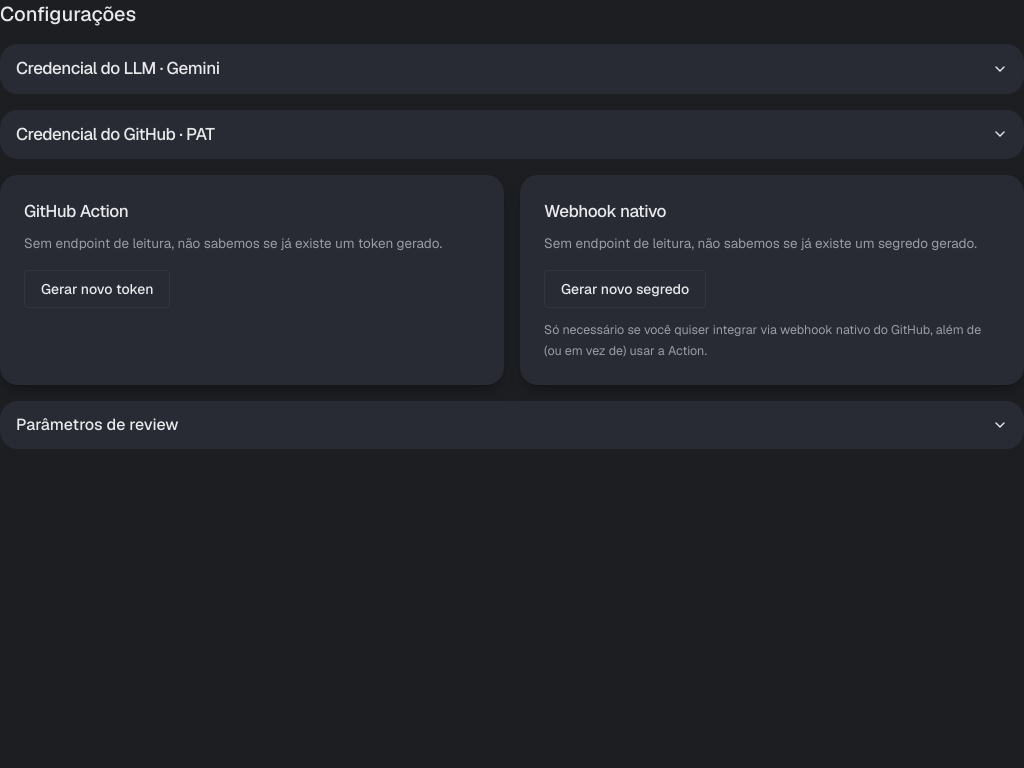
Test: SettingsPage › generating an Action token opens the SecretRevealModal with the value, gated by the ack checkbox
Click the button "Gerar novo token" at (97, 289), box [24,270,170,308]
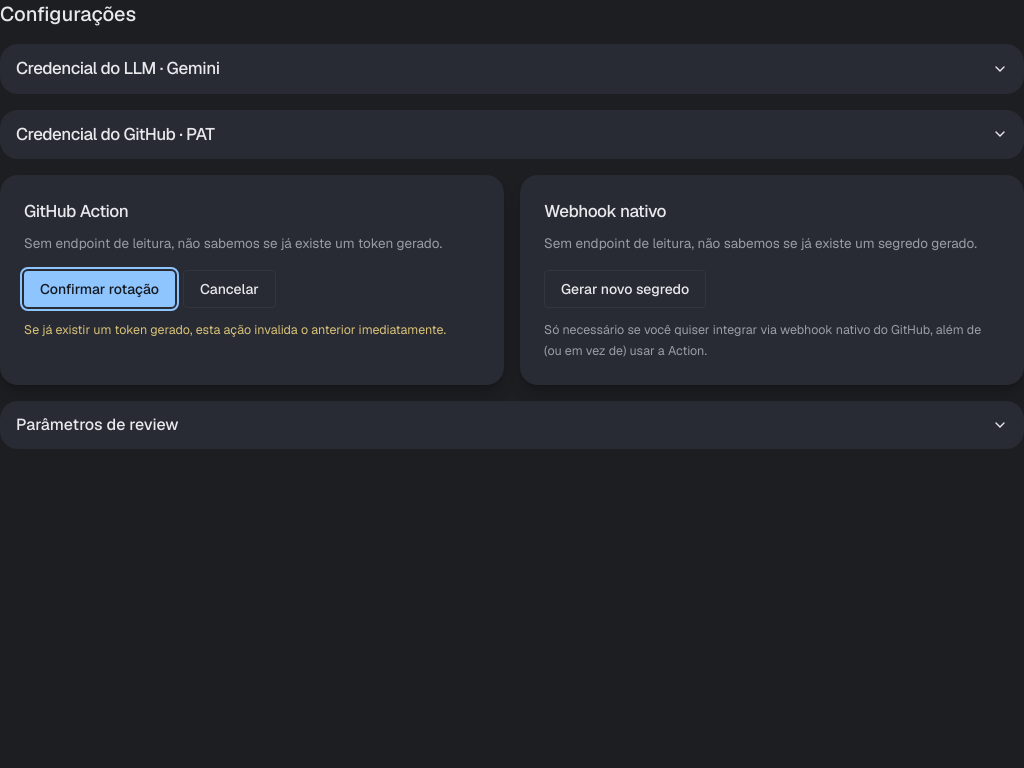
Click the button "Confirmar rotação" at (99, 289), box [24,271,175,307]
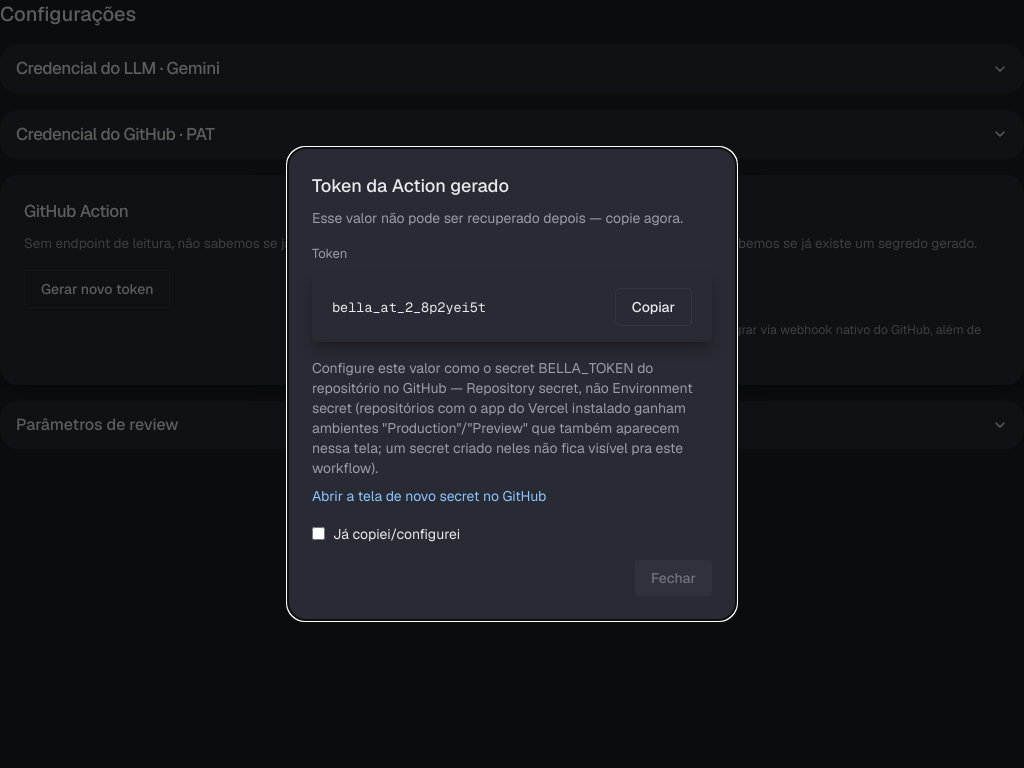
Now the dialog is shown, box [288,148,736,620]
Now the button "Fechar" is disabled, box [635,560,712,596]
Click the checkbox labelled "Já copiei/configurei" at (318, 534), box [312,527,325,540]
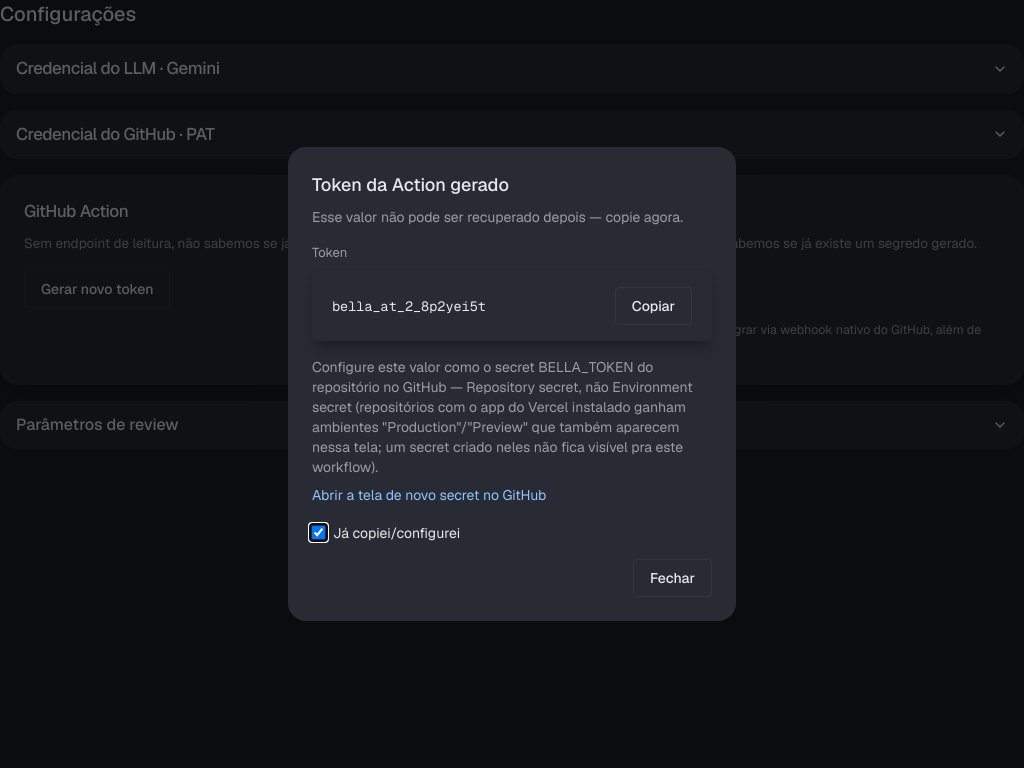
Click the button "Fechar" at (672, 578), box [633,559,712,597]
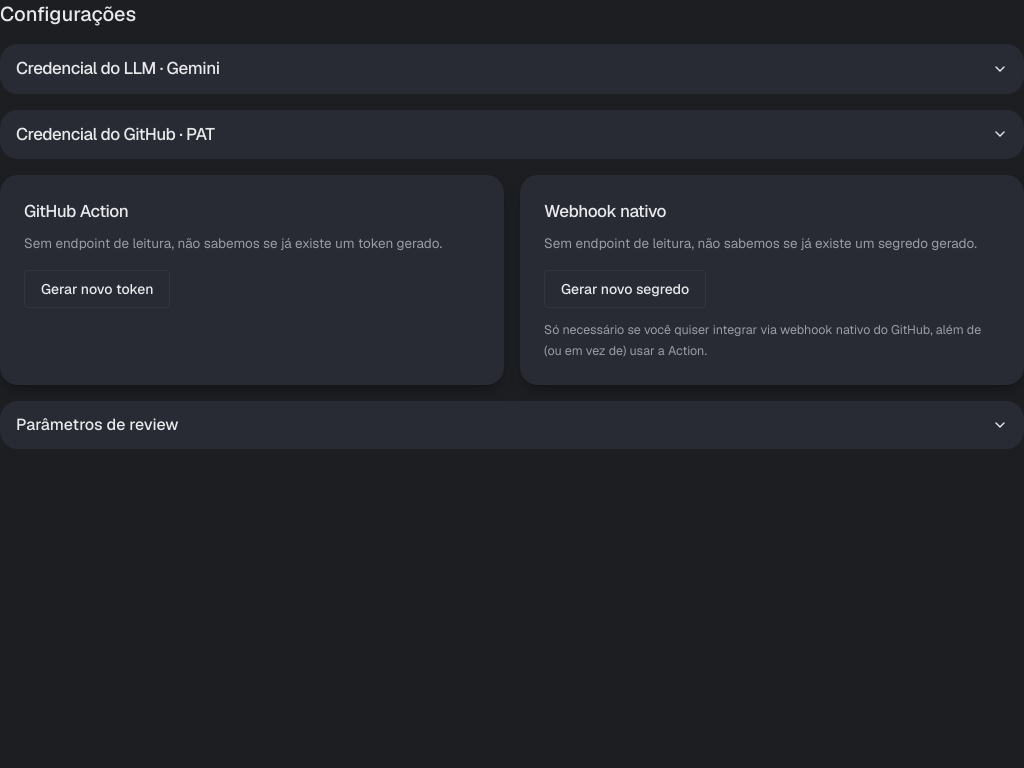
Now the dialog is gone
